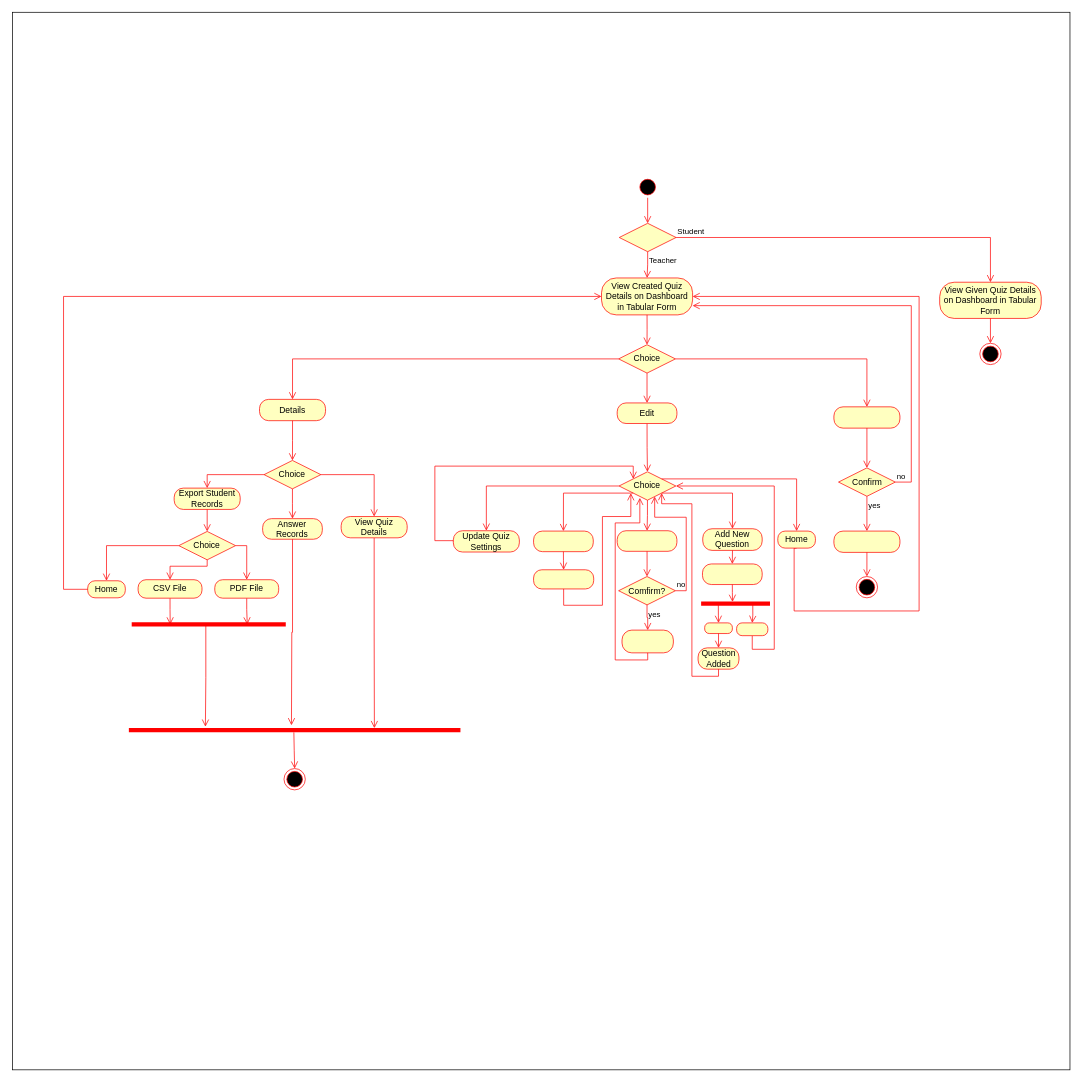
Image size: 1083x1083. Some labels were removed from this diagram. Each missing label, with the box of its shape:
Add: (704, 622, 732, 634)
Cancel: (736, 622, 768, 636)
Delete Question: (616, 530, 677, 551)
Delete Quiz: (833, 406, 900, 428)
Edit Question: (533, 530, 593, 552)
Enter New Question: (702, 563, 762, 585)
Login?: (619, 223, 676, 252)
Question Deleted: (621, 629, 673, 653)
Quiz Deleted: (833, 530, 900, 552)
Save Changes: (533, 569, 594, 589)
